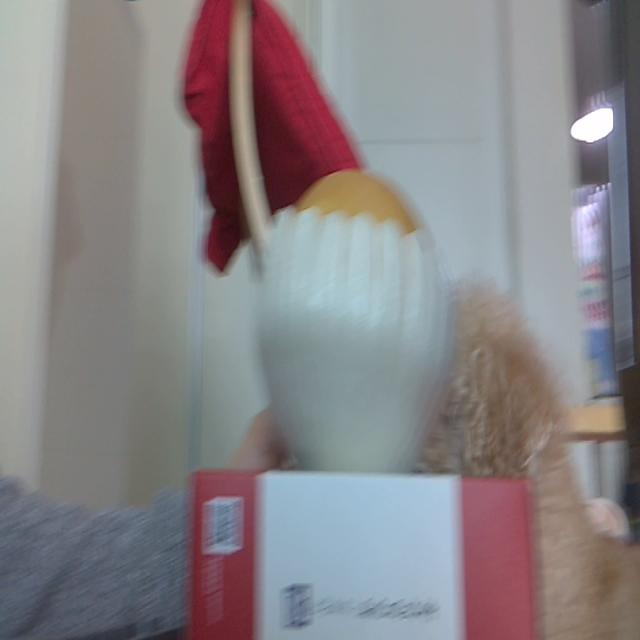pear: (258, 166, 449, 472)
